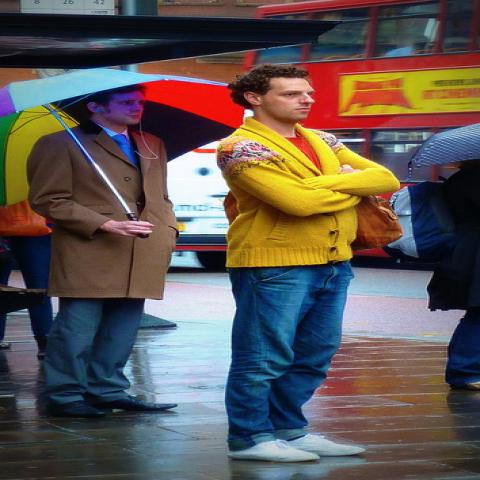bus: (246, 0, 478, 260)
truck: (163, 135, 236, 270)
